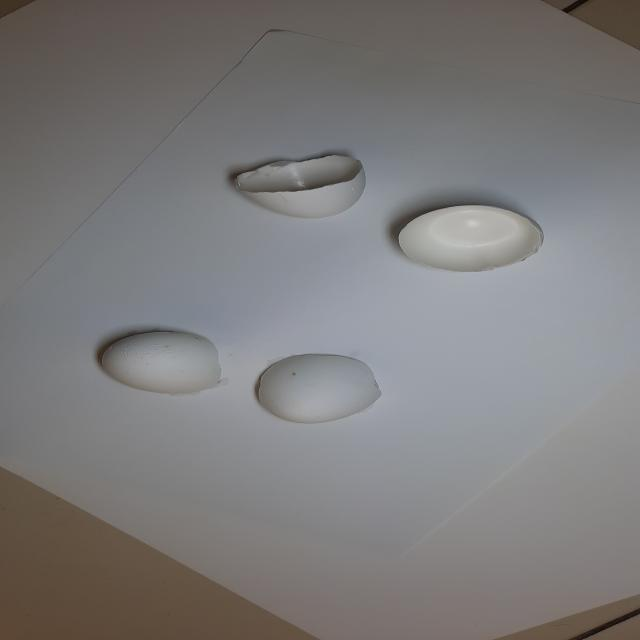egg shell: (385, 197, 555, 278), (219, 147, 379, 233), (92, 326, 242, 408), (248, 351, 390, 428)
